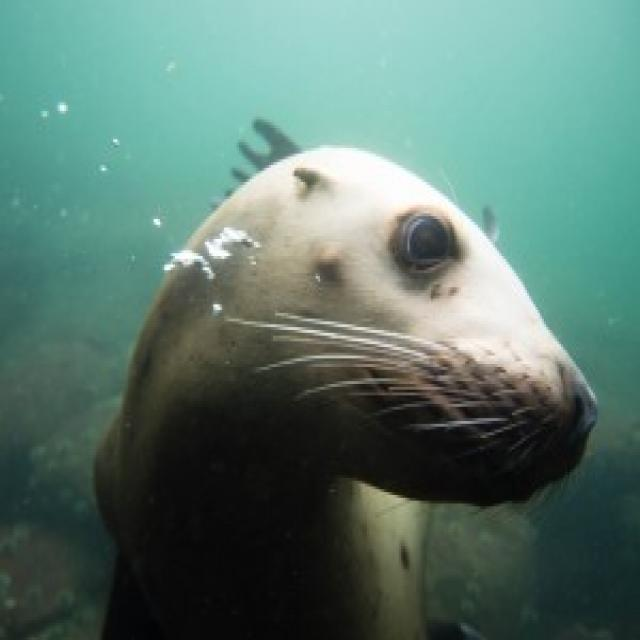Seal: (80, 89, 606, 620)
